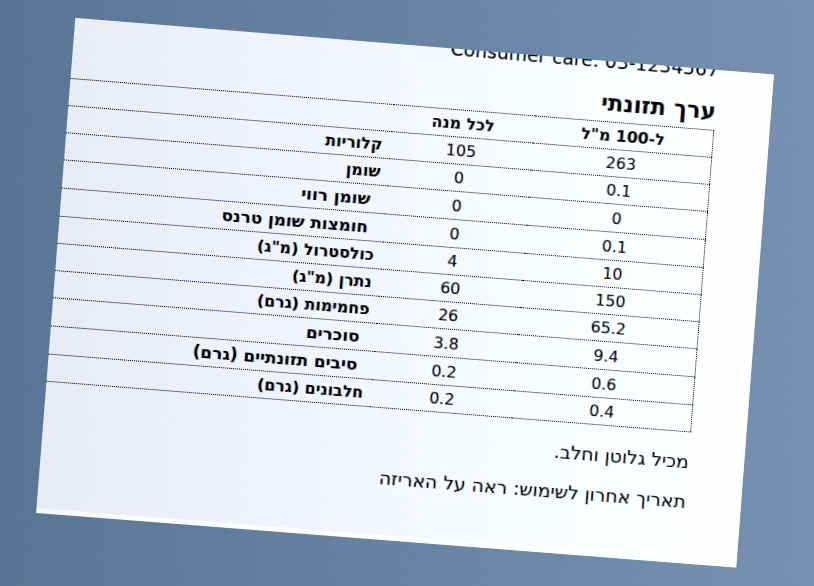carbs: (587, 315, 629, 341)
energy: (603, 151, 639, 177)
fat: (603, 178, 634, 203)
protein: (586, 399, 617, 424)
